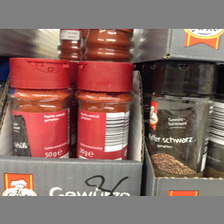spices: (148, 62, 215, 178), (7, 57, 72, 157), (72, 60, 133, 161)
